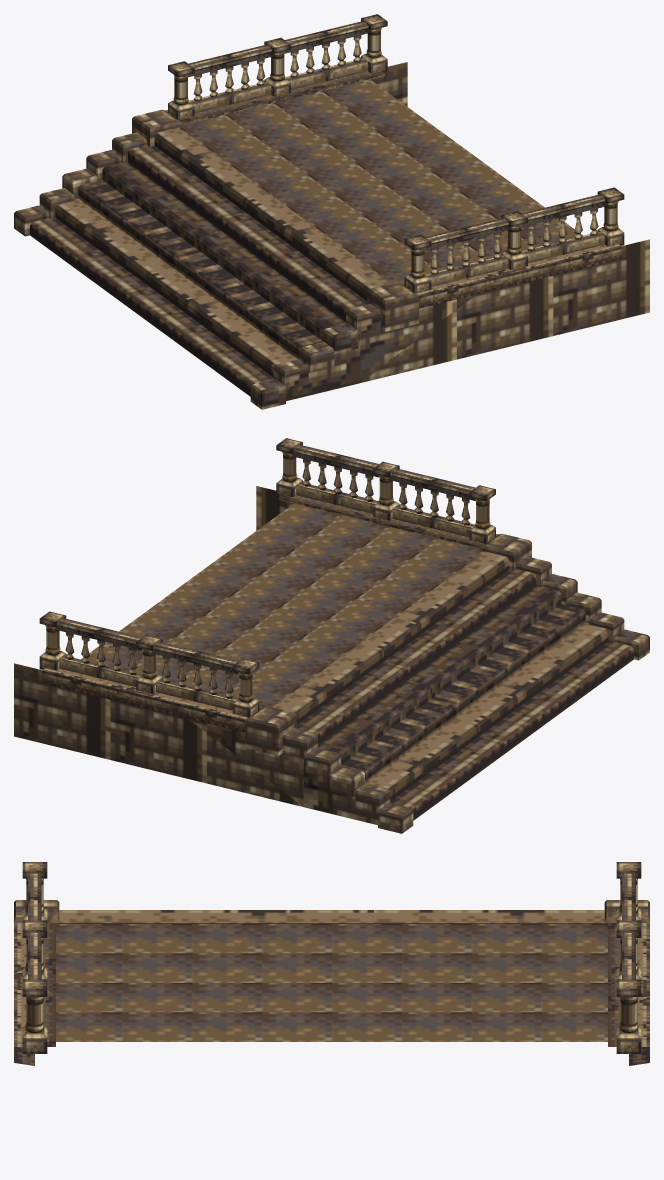
The model's file is EnvBdgMD_Festival_A_Outdoor_Stairs_A.FBX.
3 views of the same model, one above another, from view 1: azimuth 30°, elevation 25°; view 2: azimuth 150°, elevation 25°; view 3: azimuth 270°, elevation 25° (orthographic). The views are drawn at different scales.
Visible parts, largest first — view 1: EnvBdgMD_Festival_A_Outdoor_Stairs_A; view 2: EnvBdgMD_Festival_A_Outdoor_Stairs_A; view 3: EnvBdgMD_Festival_A_Outdoor_Stairs_A.
Part boxes in pixels (x1,y1,x2,y2): EnvBdgMD_Festival_A_Outdoor_Stairs_A: (14, 14, 649, 409); EnvBdgMD_Festival_A_Outdoor_Stairs_A: (14, 438, 649, 833); EnvBdgMD_Festival_A_Outdoor_Stairs_A: (14, 862, 649, 1065).
Size of the model in its own units: 810 by 250 by 910.
